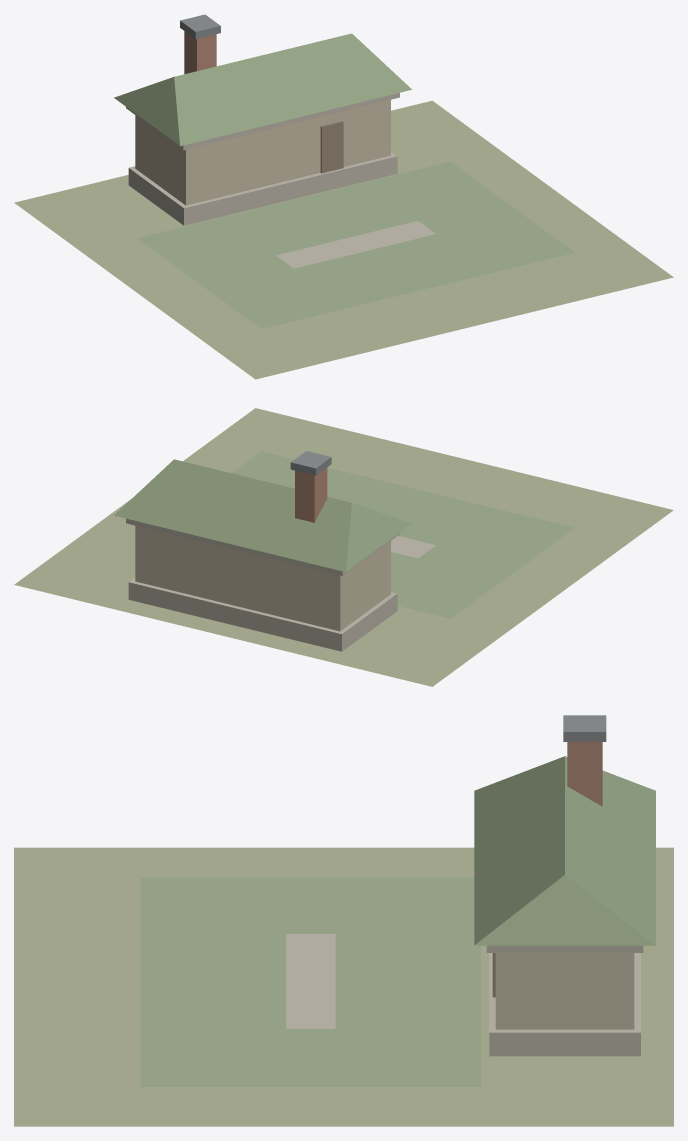
The picture shows the model from 3 angles, top to bottom: view 1: azimuth 30°, elevation 25°; view 2: azimuth 150°, elevation 25°; view 3: azimuth 270°, elevation 25°; orthographic projection. The views are drawn at different scales.
Parts seen in each view (by area): view 1: Near; view 2: Near; view 3: Near.
Part boxes in pixels (x1,y1,x2,y2): Near: (14,14,673,379); Near: (14,408,673,686); Near: (14,715,673,1126).
Size of the model in its own units: 2 by 0.7574 by 2.
